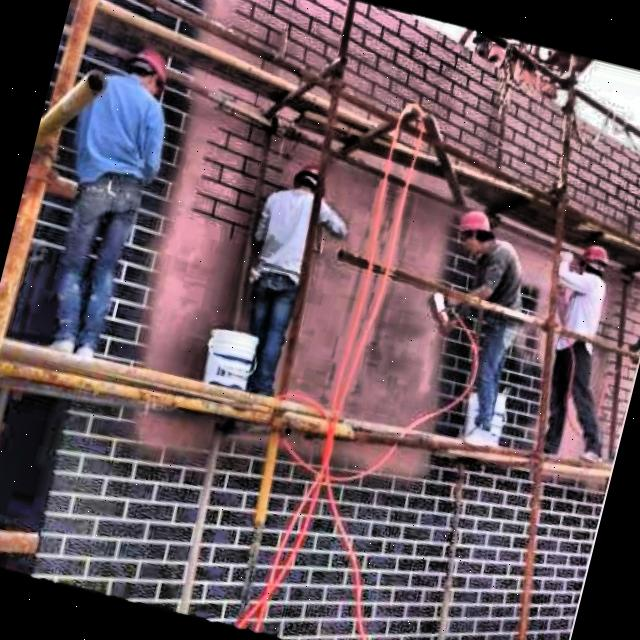helmet: (120, 40, 178, 100), (452, 206, 500, 262), (287, 158, 336, 202), (576, 240, 614, 286)
